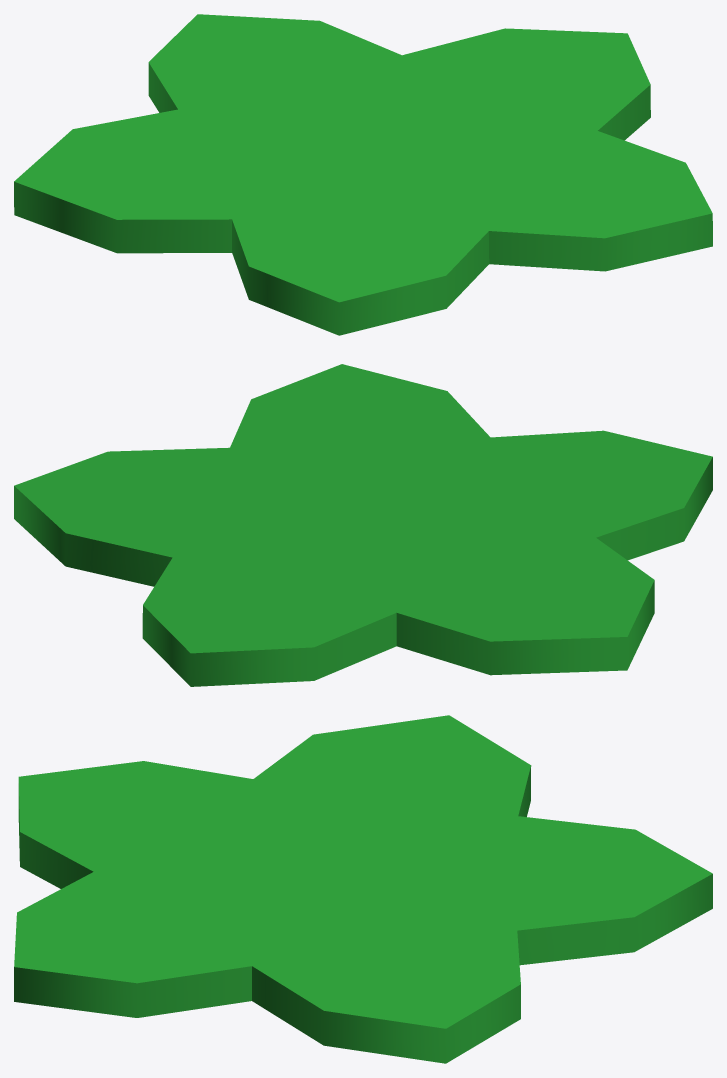
File: Flower_1.FBX
3 views of the same model, one above another, from view 1: azimuth 30°, elevation 25°; view 2: azimuth 150°, elevation 25°; view 3: azimuth 270°, elevation 25° (orthographic). The views are drawn at different scales.
Visible parts, largest first — view 1: Flower_1; view 2: Flower_1; view 3: Flower_1.
Part boxes in pixels (x1,y1,x2,y2): Flower_1: [14, 14, 712, 335]; Flower_1: [14, 364, 712, 686]; Flower_1: [14, 715, 712, 1063].
Bounding box in the file's own units: 0.1604 × 0.0105 × 0.151.
1 material, 1 textured.
